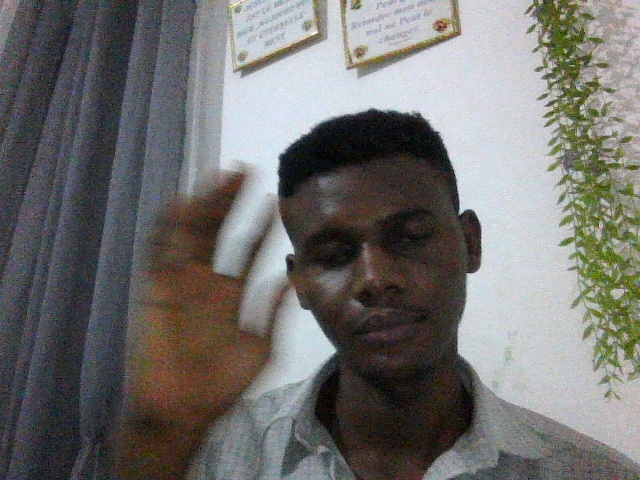hand: (144, 159, 287, 458)
